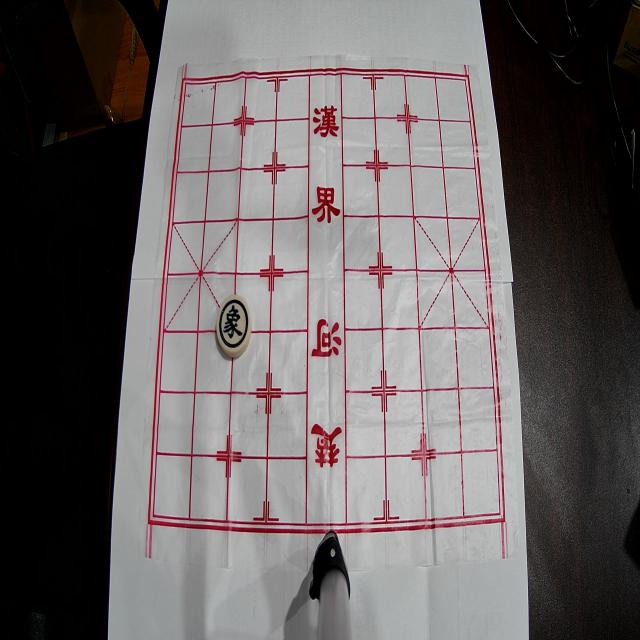black-elephant: (216, 294, 252, 358)
